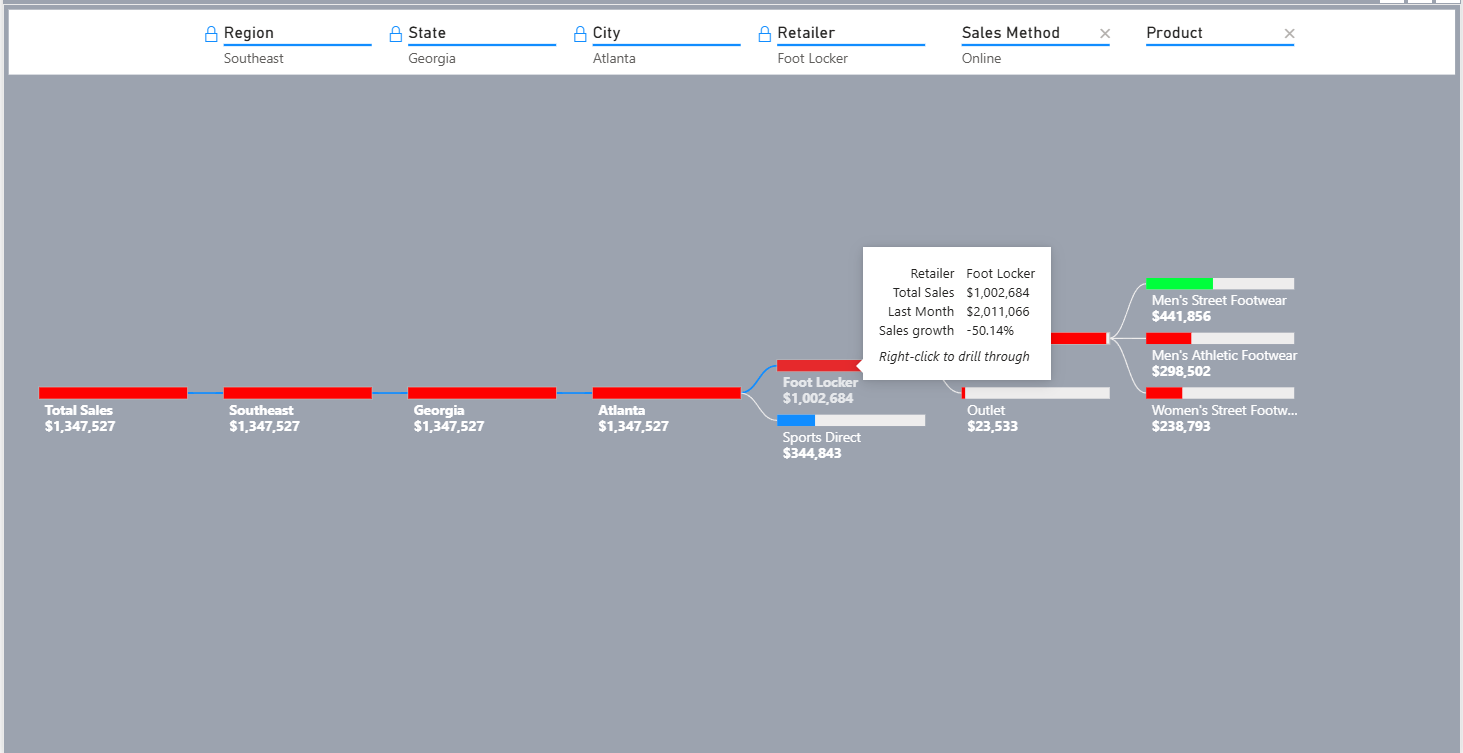

What the dashboard file says about the page in this screenshot:
{"tool":"powerbi","page":{"name":"Sales Channels","canvas":[1280,720],"ordinal":2},"visuals":[{"type":"decompositionTreeVisual","fields":{"Analyze":["Sum(Data.Total Sales)"],"ExplainBy":["Data.Retailer","Data.State","Data.City","Data.Product","Data.Sales Method"]},"box":[0,84.3,1280,635.9],"z":0},{"type":"actionButton","box":[1166.4,0,113.6,92.5],"z":1000},{"type":"textbox","box":[406.8,12.8,466.4,67.8],"z":2000},{"type":"image","box":[46.7,12.8,130.1,67.8],"z":3000}]}

Visuals, with their boxes on the page's 1280x720 design canvas (x1, y1, x2, y2). These are canvas units, not pixel positions in the 1463x753 screenshot, which may show the page scaled, cropped or inside an application window:
decompositionTreeVisual - Sum(Data.Total Sales) x Data.Retailer: detection(0, 84, 1280, 720)
actionButton: detection(1166, 0, 1280, 92)
textbox: detection(407, 13, 873, 81)
image: detection(47, 13, 177, 81)
